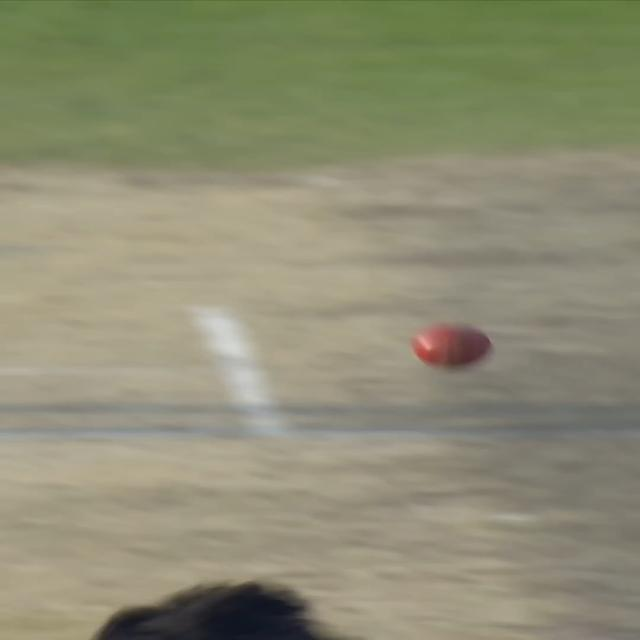Cricket ball: (412, 319, 495, 372)
